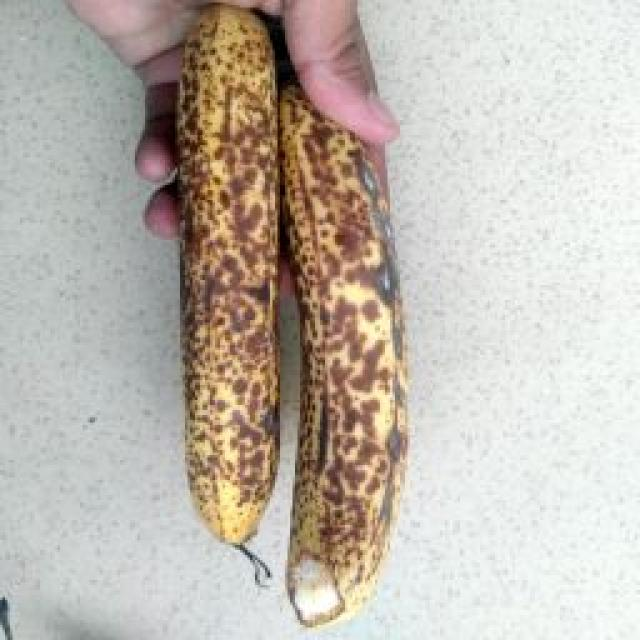banana: (14, 69, 529, 471)
